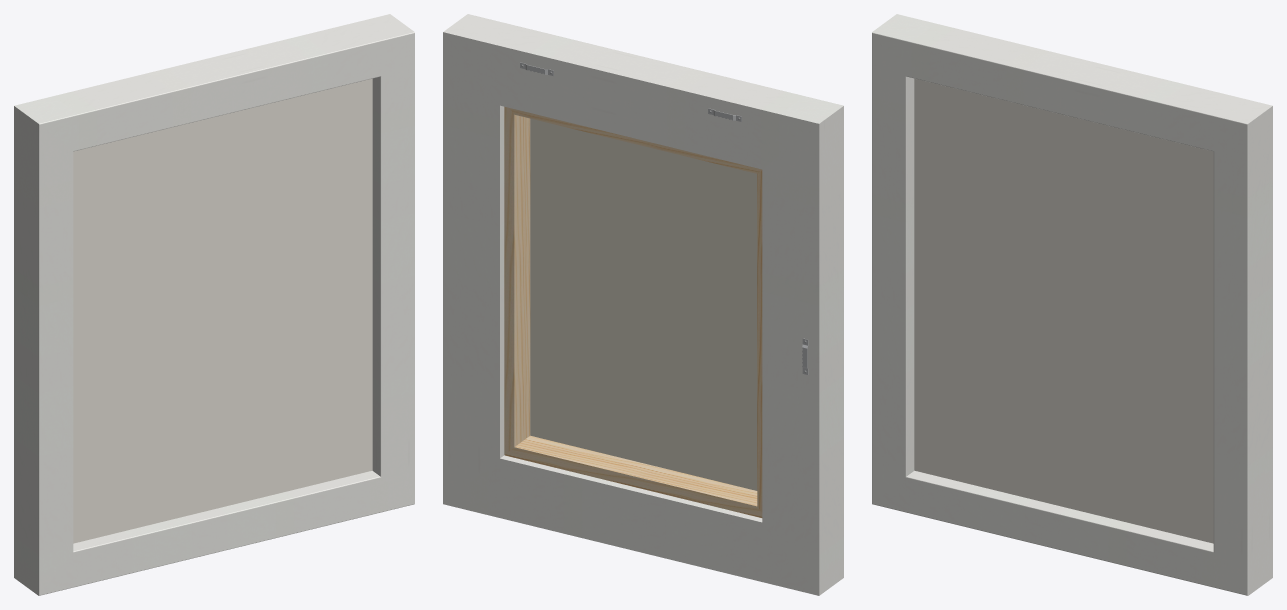
Rendered from decoded-from-delivery.glb.
3 views of the same model, side by side, from view 1: azimuth 30°, elevation 25°; view 2: azimuth 150°, elevation 25°; view 3: azimuth 330°, elevation 25° (orthographic).
Visible parts, largest first — view 1: Canvas artwork front, Tray approved profile 0; view 2: Tray approved profile 0, Canvas linen reverse, Stretcher top, Sawtooth hanger 0; view 3: Canvas artwork front, Tray approved profile 0.
Boxes of the visible parts, bbox=[...] form: Canvas artwork front: bbox=[73, 78, 372, 543]; Tray approved profile 0: bbox=[14, 14, 414, 595]; Tray approved profile 0: bbox=[443, 14, 843, 595]; Canvas linen reverse: bbox=[530, 118, 757, 490]; Stretcher top: bbox=[504, 106, 762, 517]; Sawtooth hanger 0: bbox=[520, 62, 808, 374]; Canvas artwork front: bbox=[914, 78, 1213, 543]; Tray approved profile 0: bbox=[872, 14, 1272, 595].
Size of the model in its own units: 0.502 by 0.602 by 0.0604.
Materials: 7 (3 with a texture image).
